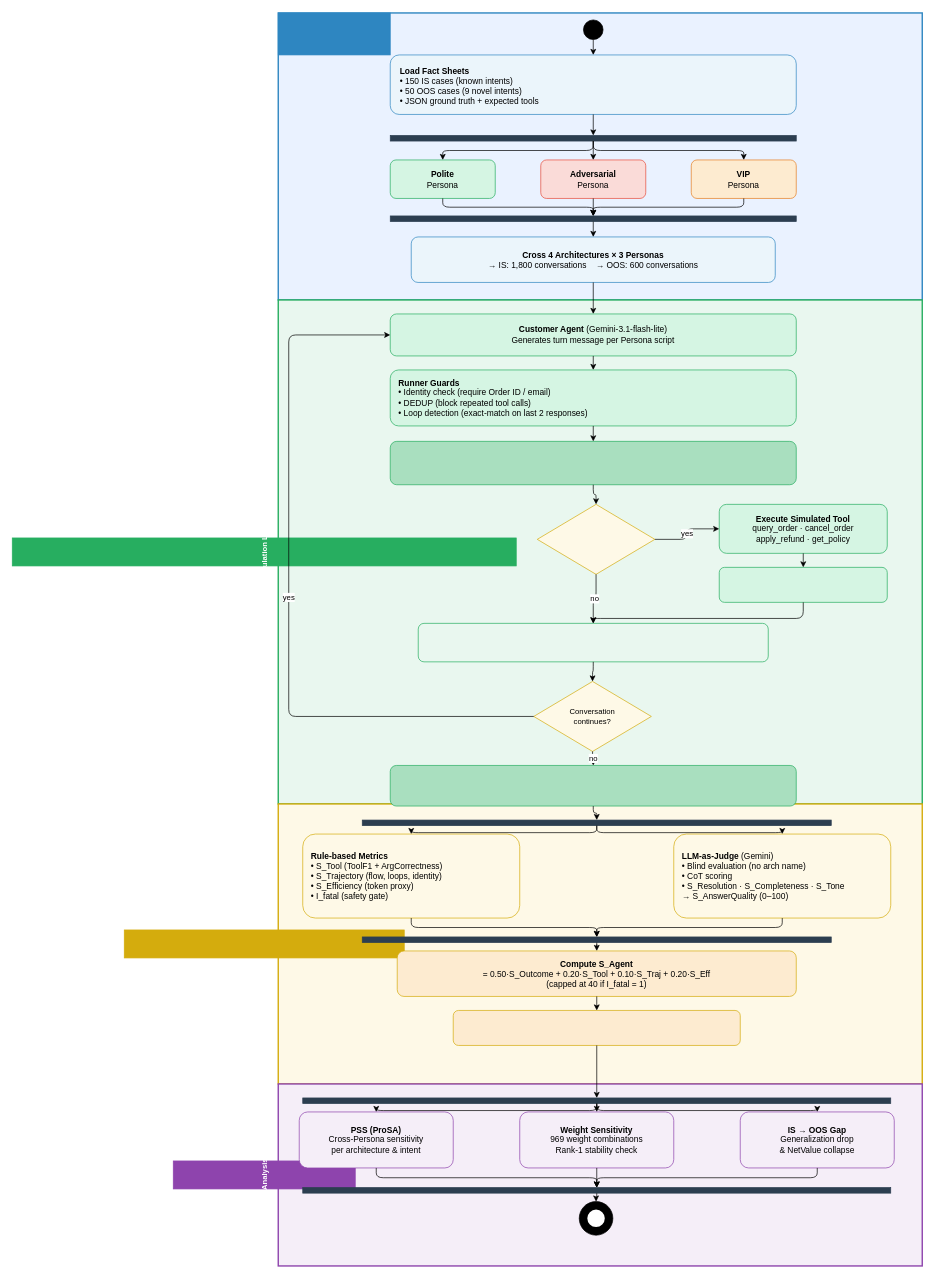
Image size: 935x1278. Some labels were removed from this diagram. The shapes that lost their labels are listed below. From the top down, each one's centre as x and y in pixels, then its label:
At (x=334, y=33): "Data Preparation".
At (x=593, y=463): "Service Agent (llama3.1:8b) [ Single-Slot / ReAct / Reflection / PlanExecute ]".
At (x=596, y=539): "Tool call detected?".
At (x=803, y=584): "Return Observation to Agent".
At (x=593, y=642): "Check Termination Condition".
At (x=593, y=785): "Record Final Status SUCCESS / LOOP_FAILURE / FAILED_INCOMPLETE".
At (x=264, y=943): "Evaluation".
At (x=596, y=1027): "Compute ProxyCost · NetValue · ΔMB".
